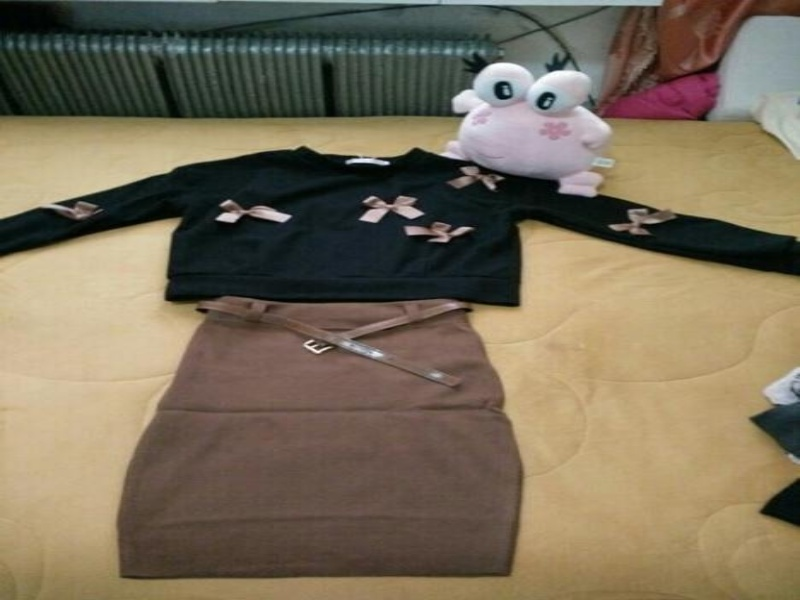long_sleeved_shirt: (0, 145, 798, 310)
skirt: (113, 294, 528, 582)
